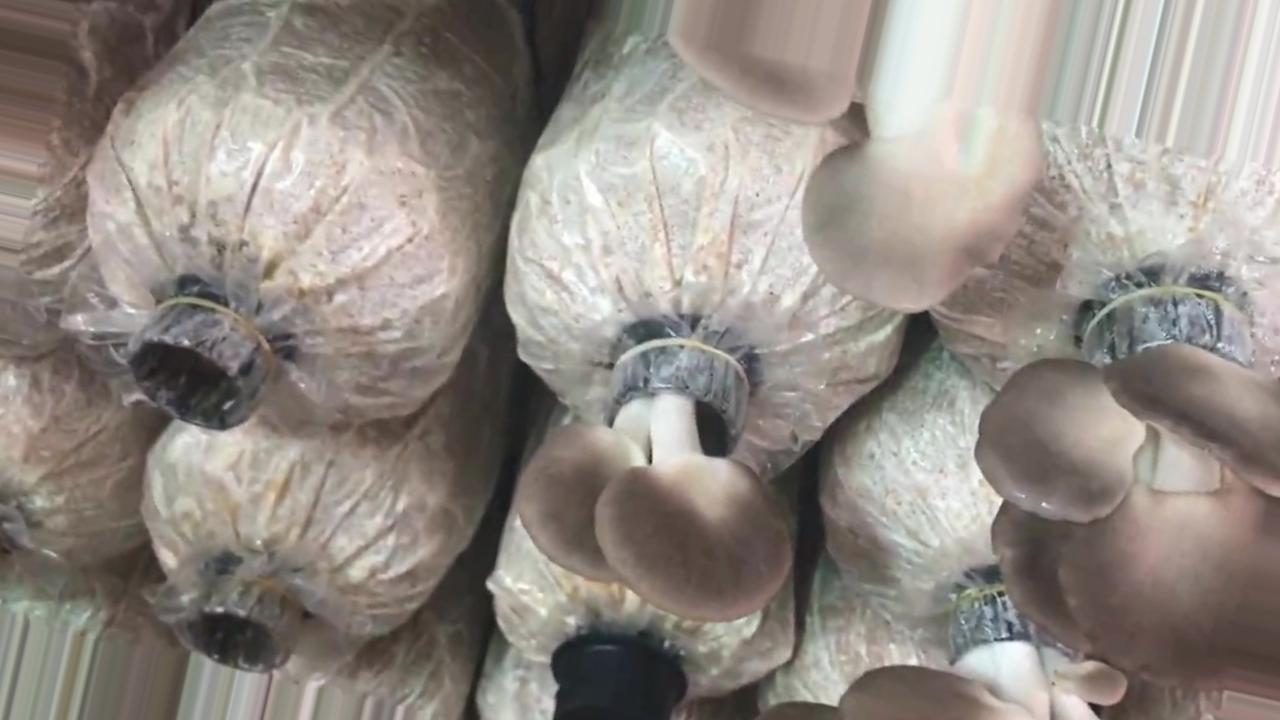nam: (975, 300, 1280, 690), (514, 320, 791, 625)
